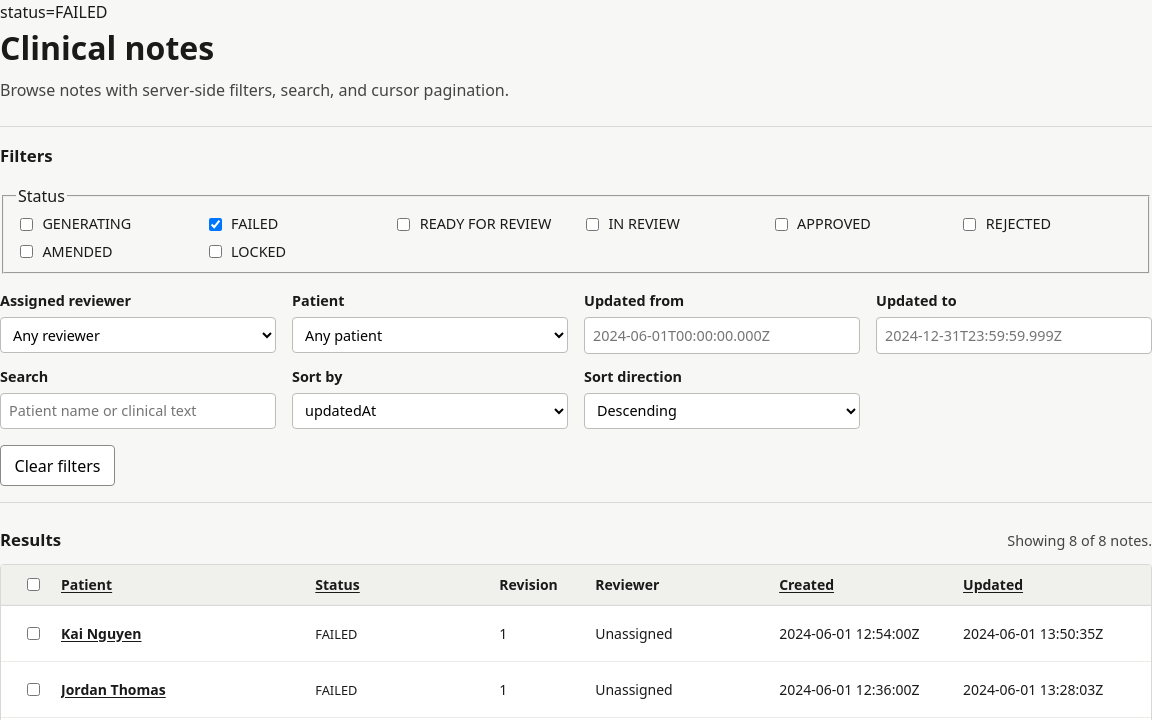
NotesListPage › regeneration role gating › CLINICIAN sees enabled regeneration for FAILED notes
Click the checkbox named "Select note for" at (34, 633), box left=27, top=627, right=40, bottom=640
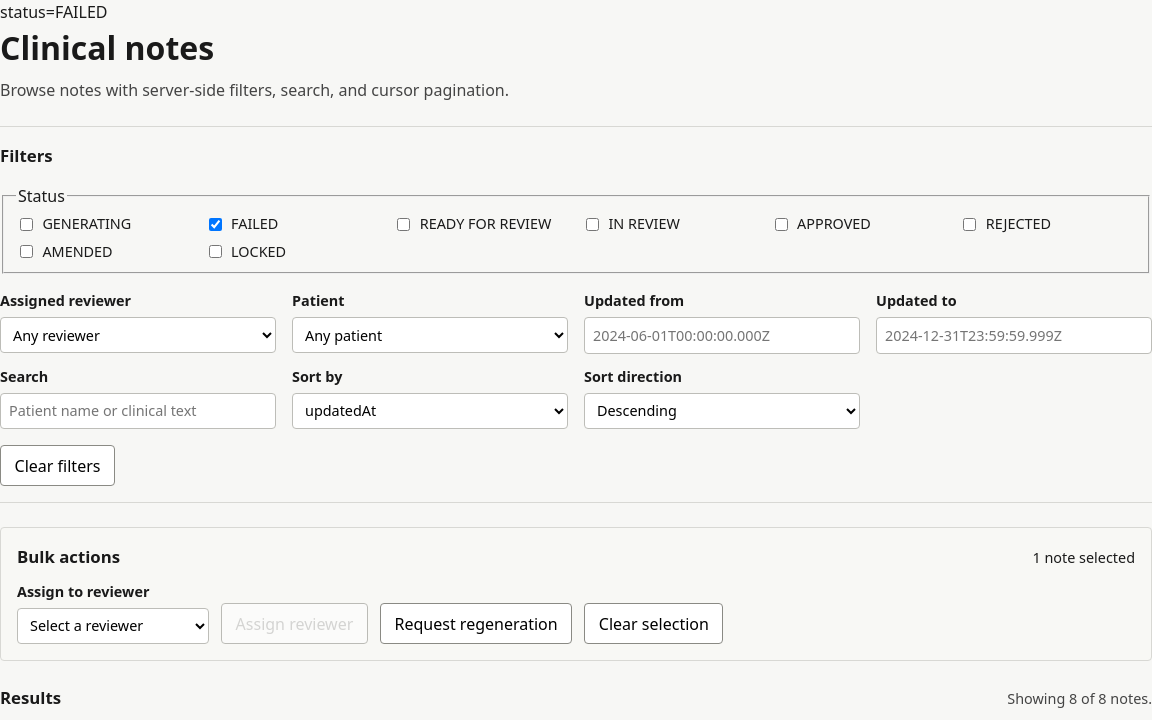
Result: the element with test id "bulk-action-toolbar" is shown at left=0, top=527, right=1151, bottom=661
Result: the button "Request regeneration" is enabled at left=380, top=604, right=572, bottom=644
